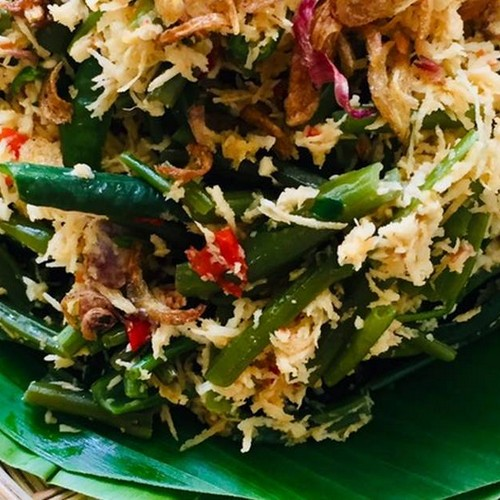jukut urap: (10, 24, 471, 398)
